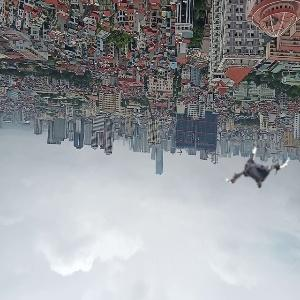drone: (225, 137, 293, 205)
